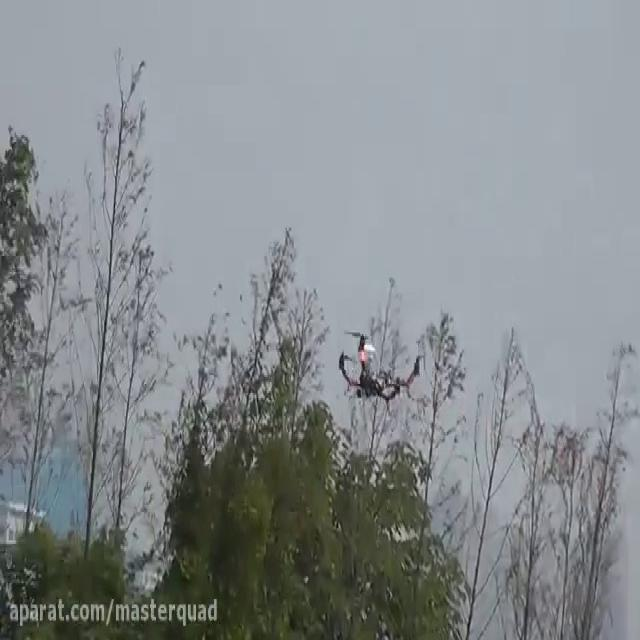drone: (331, 327, 426, 404)
